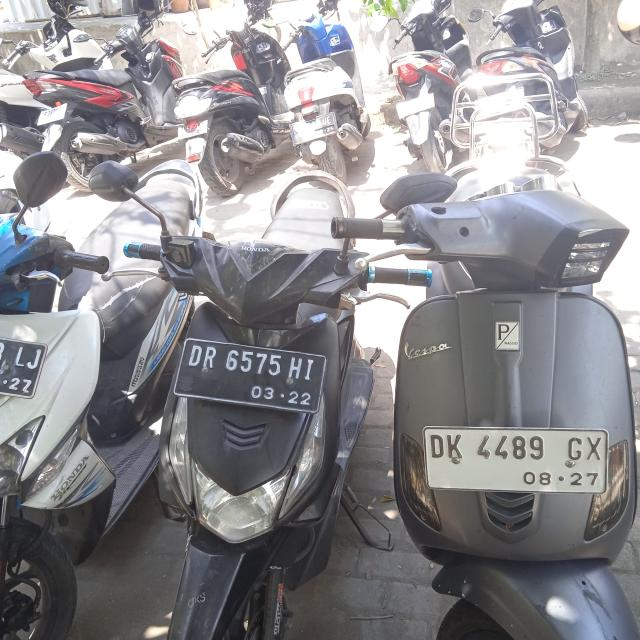plate: (423, 424, 610, 498), (173, 336, 327, 415)
